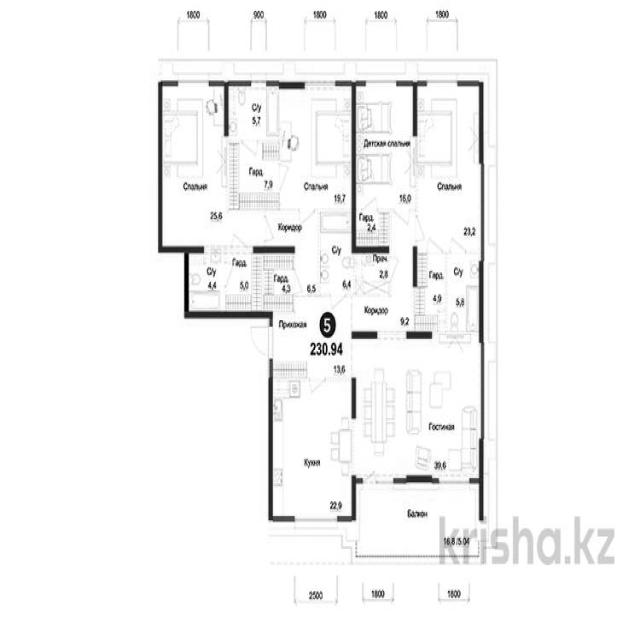balcony: (354, 480, 481, 559)
bathroom: (317, 210, 353, 297), (228, 82, 278, 140), (447, 257, 480, 335), (187, 252, 225, 313), (357, 252, 391, 294)
hallway: (270, 298, 350, 379), (356, 295, 413, 334), (265, 208, 319, 246)
kitchen: (270, 380, 353, 521)
living_room: (352, 338, 482, 479), (160, 84, 228, 258), (418, 81, 481, 254), (278, 83, 353, 209), (356, 78, 416, 211)
other: (227, 141, 279, 208), (416, 252, 447, 335), (225, 252, 263, 314), (261, 250, 294, 313), (354, 212, 390, 250)
